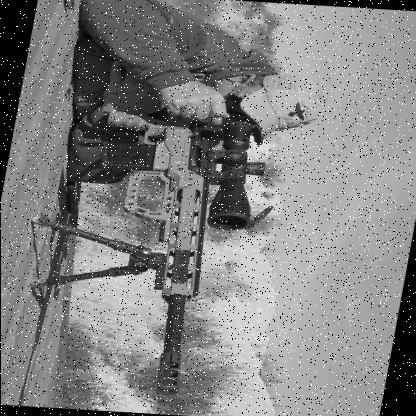rifle: (56, 111, 260, 401)
